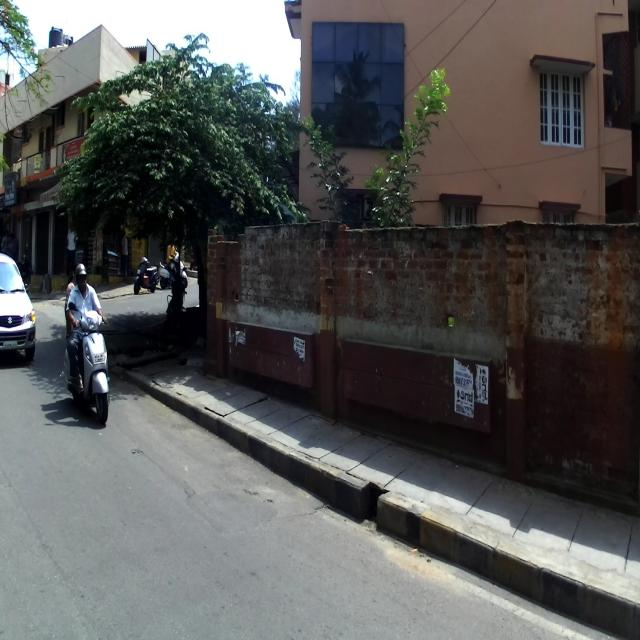car: (0, 252, 36, 364)
scooter: (62, 299, 109, 422), (134, 251, 158, 295)
